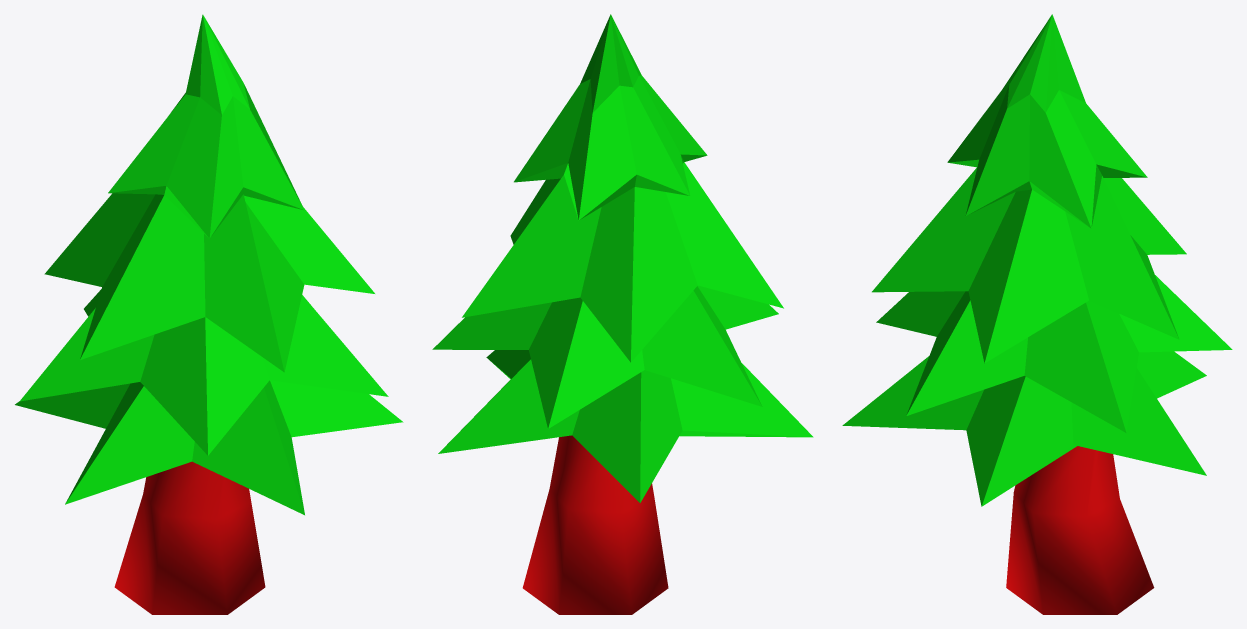
File: Tree_02.fbx
3 views of the same model, side by side, from view 1: azimuth 30°, elevation 25°; view 2: azimuth 150°, elevation 25°; view 3: azimuth 270°, elevation 25° (orthographic). The views are drawn at different scales.
Parts seen in each view (by area): view 1: mesh_Tree_02; view 2: mesh_Tree_02; view 3: mesh_Tree_02.
Boxes of the visible parts, x1=… form: mesh_Tree_02: x1=15, y1=14, x2=403, y2=614; mesh_Tree_02: x1=432, y1=14, x2=813, y2=614; mesh_Tree_02: x1=842, y1=14, x2=1232, y2=614.
Bounding box in the file's own units: 270 × 445 × 275.
